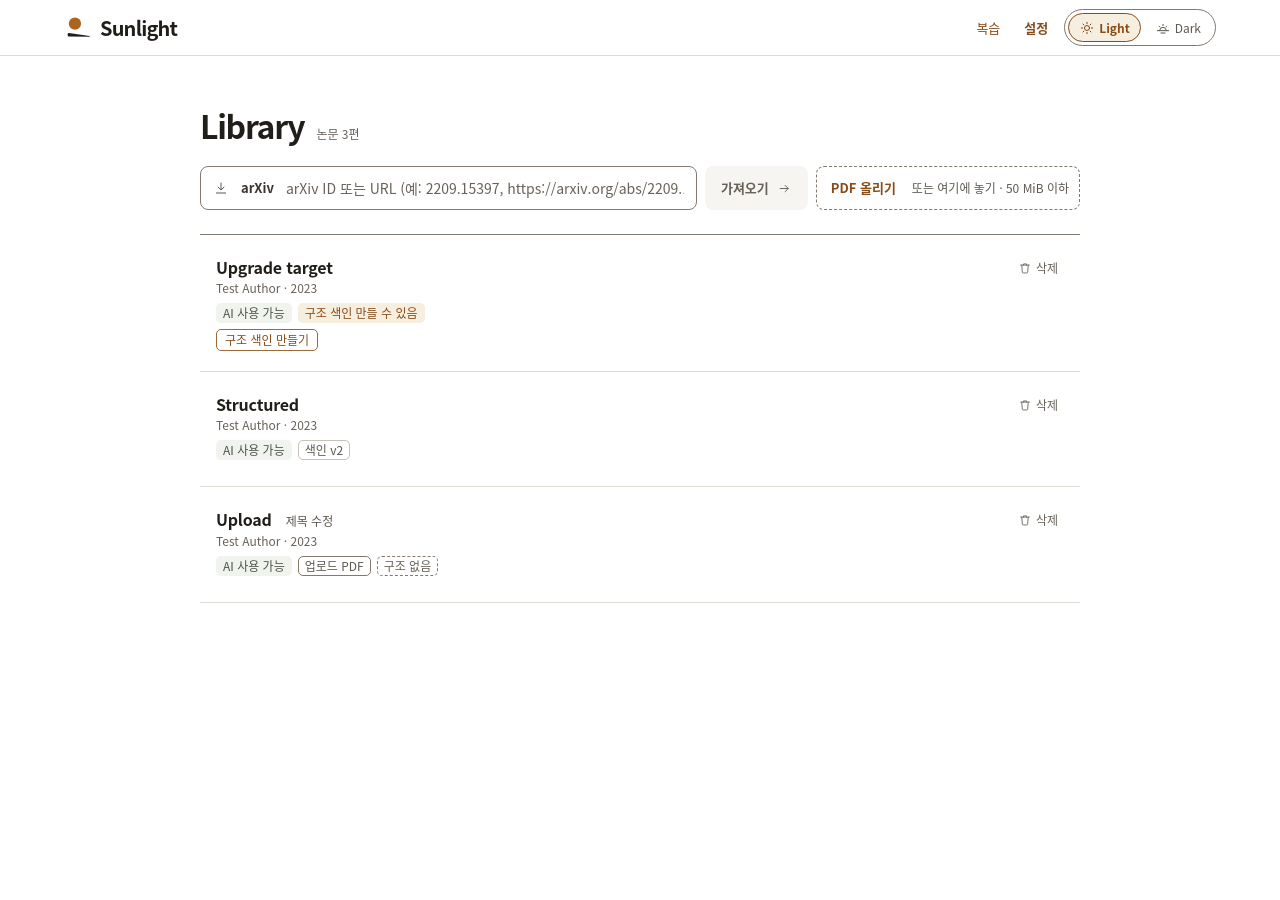
Test: upgrade flow › button → confirmation text → papers.upgradeStructure → steps → done; list, paper and structure are read again
Step 1. Click the button with test id "rd-upgrade-button" → (267, 340), box [216,329,318,351]
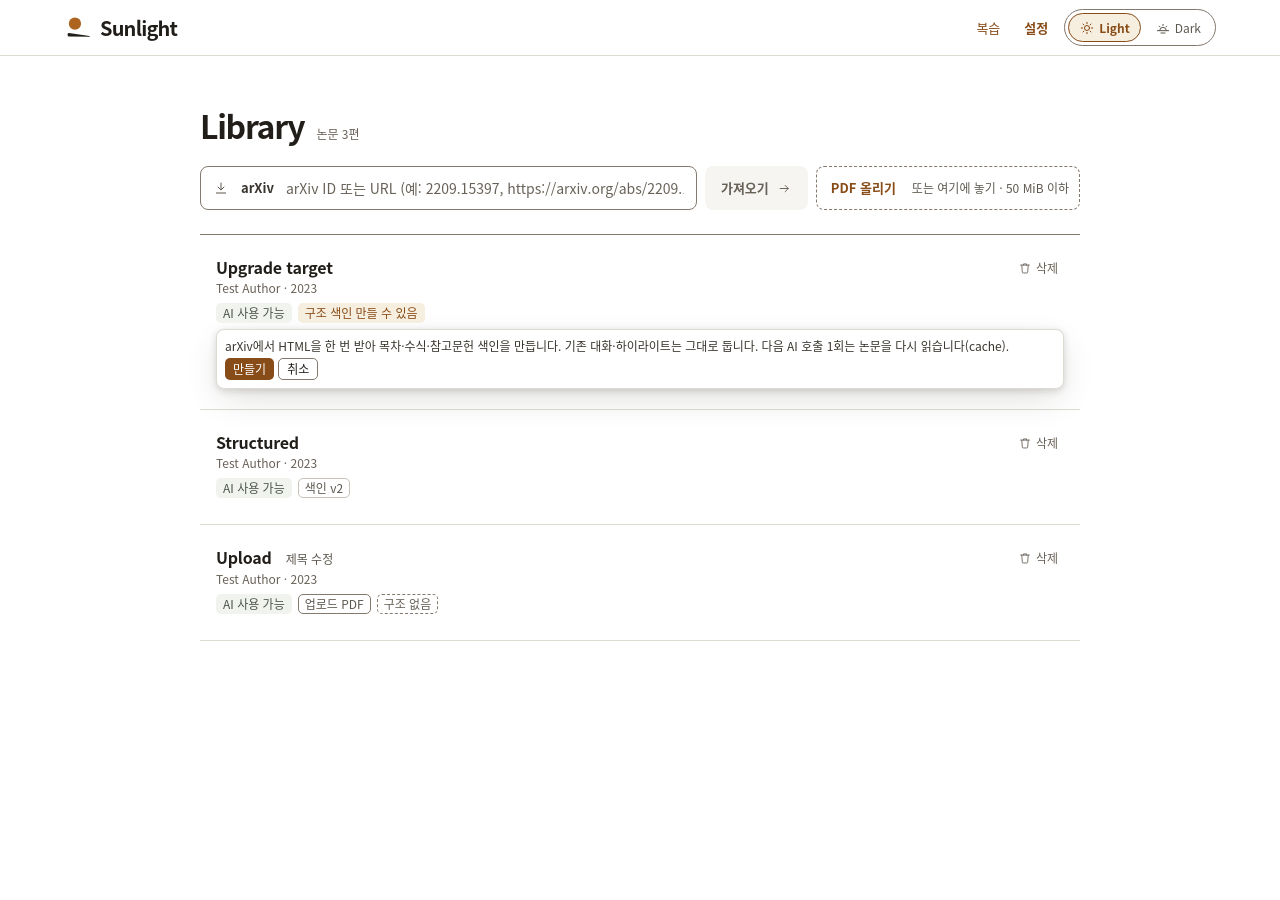
Step 2. Click the button with test id "rd-upgrade-confirm-yes" → (250, 369), box [225,358,274,380]
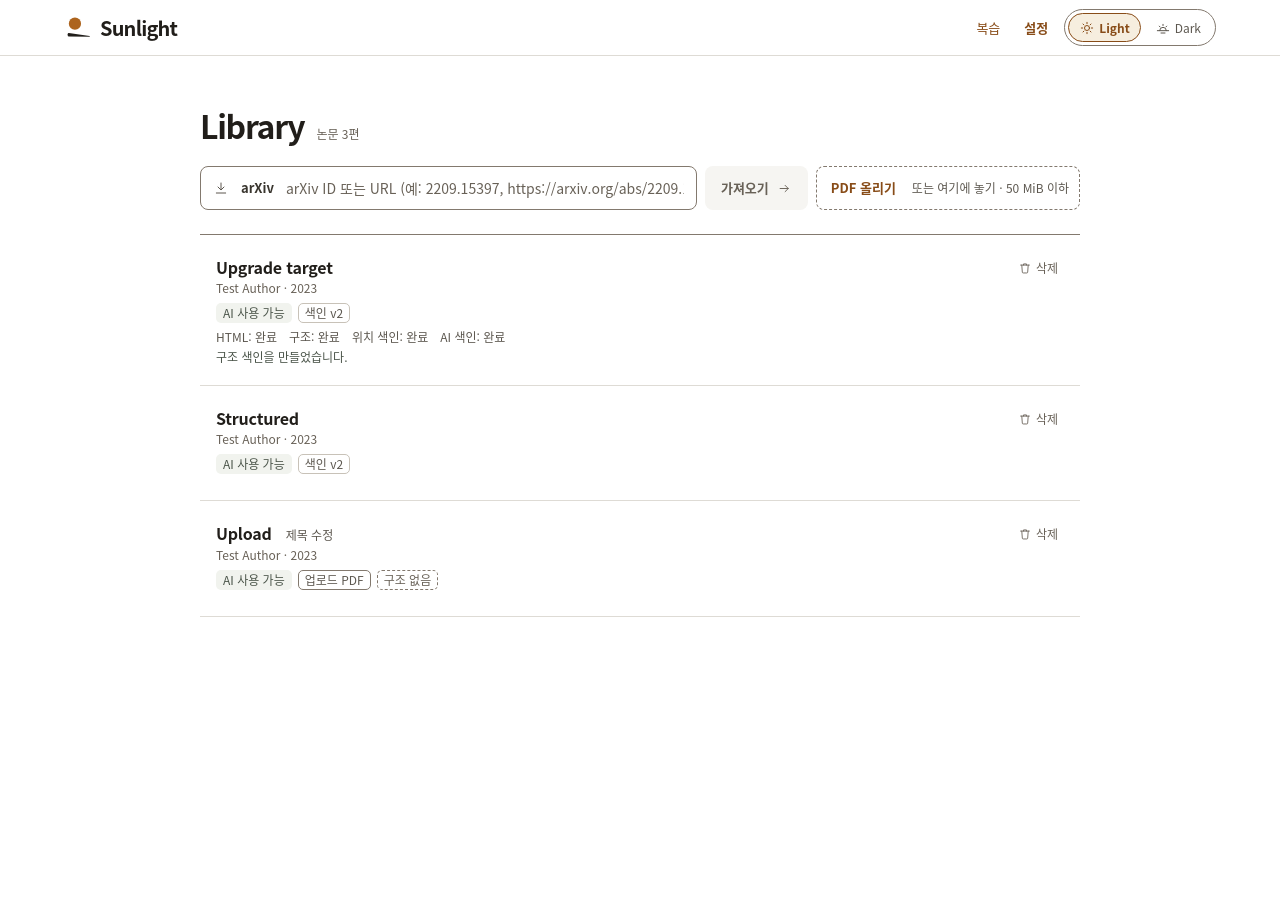
Expected: the text "구조 색인을 만들었습니다." is shown, [216,348,348,365]
Expected: the text with test id "rd-structure-badge" below "Upgrade target" reads "색인 v2", [305,304,343,321]
